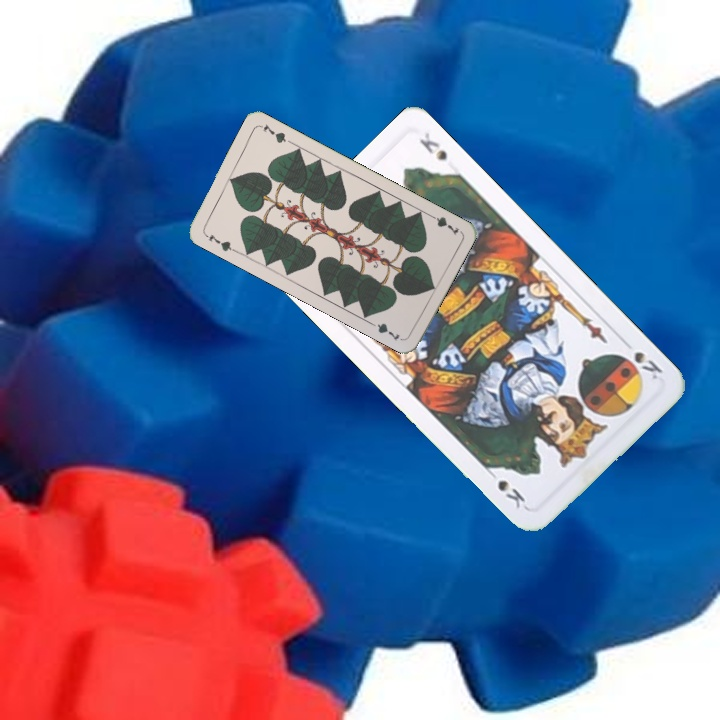G7: (424, 210, 462, 238), (200, 229, 238, 254)
SK: (618, 335, 665, 383)
